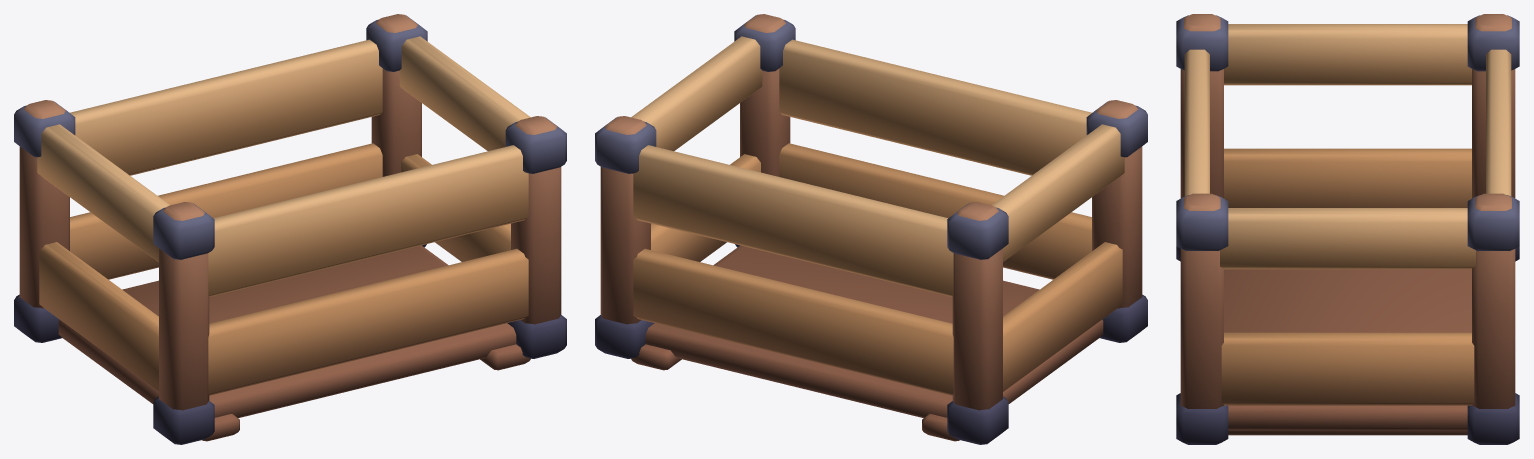
File: kasa.fbx
3 renders of one model, left to right at view 1: azimuth 30°, elevation 25°; view 2: azimuth 150°, elevation 25°; view 3: azimuth 270°, elevation 25°, orthographic. The views are drawn at different scales.
Visible parts, largest first — view 1: Crate_Slats, Crate_Frame, Crate_Hardware; view 2: Crate_Slats, Crate_Frame, Crate_Hardware; view 3: Crate_Slats, Crate_Frame, Crate_Hardware.
Boxes of the visible parts, x1,y1,x2,y2 form: Crate_Slats: [37, 36, 530, 395]; Crate_Frame: [19, 14, 561, 441]; Crate_Hardware: [14, 15, 566, 444]; Crate_Slats: [631, 36, 1124, 395]; Crate_Frame: [600, 14, 1142, 441]; Crate_Hardware: [595, 15, 1147, 444]; Crate_Slats: [1184, 24, 1511, 405]; Crate_Frame: [1180, 14, 1515, 435]; Crate_Hardware: [1176, 15, 1519, 444].
Bounding box in the file's own units: 0.57 × 0.32 × 0.41.
Materials: 3 (3 with a texture image).
